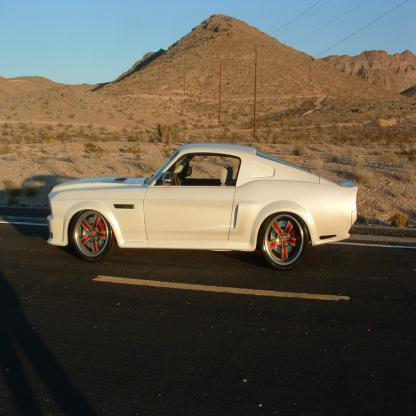car: (40, 135, 355, 276)
